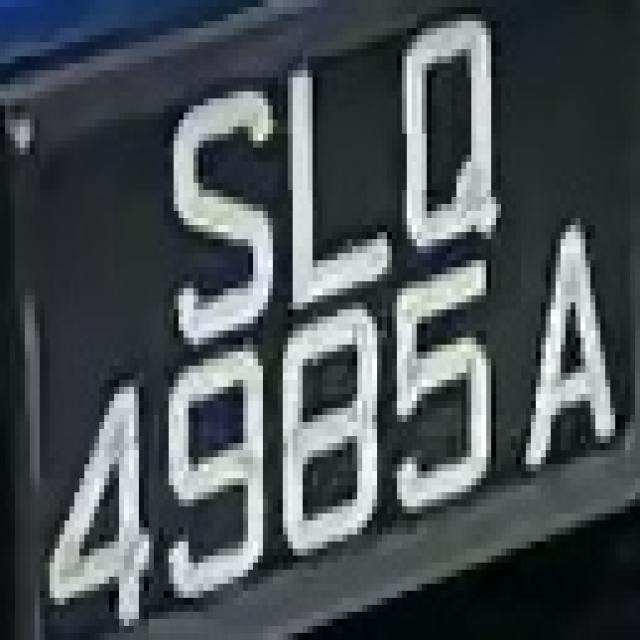4: (30, 359, 164, 626)
5: (377, 274, 506, 514)
8: (283, 310, 382, 556)
9: (159, 358, 278, 598)
A: (501, 197, 630, 478)
L: (273, 35, 397, 310)
Q: (392, 7, 526, 239)
S: (139, 49, 273, 352)
